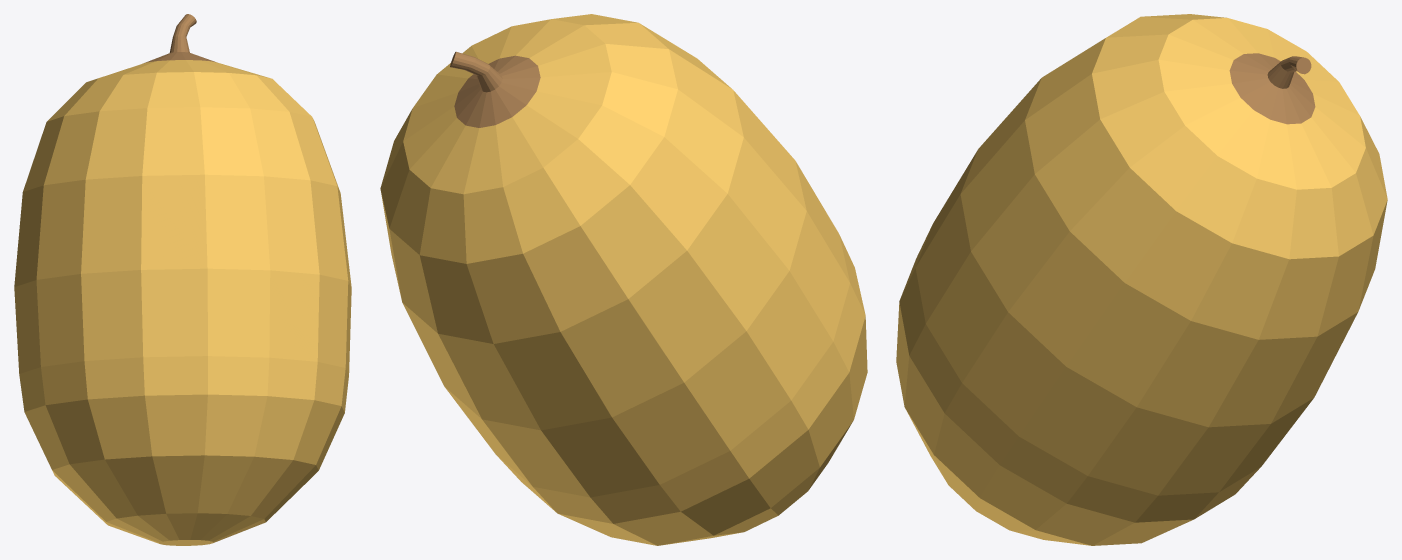
The model's file is melon_0.fbx.
The picture shows the model from 3 angles, left to right: view 1: azimuth 30°, elevation 25°; view 2: azimuth 150°, elevation 25°; view 3: azimuth 270°, elevation 25°; orthographic projection. The views are drawn at different scales.
Parts seen in each view (by area): view 1: melon_0; view 2: melon_0; view 3: melon_0.
Part boxes in pixels (box(x1,y1,x2,y2)): melon_0: box(14, 14, 351, 545); melon_0: box(380, 14, 867, 545); melon_0: box(896, 14, 1387, 545).
Size of the model in its own units: 162 by 210 by 177.
